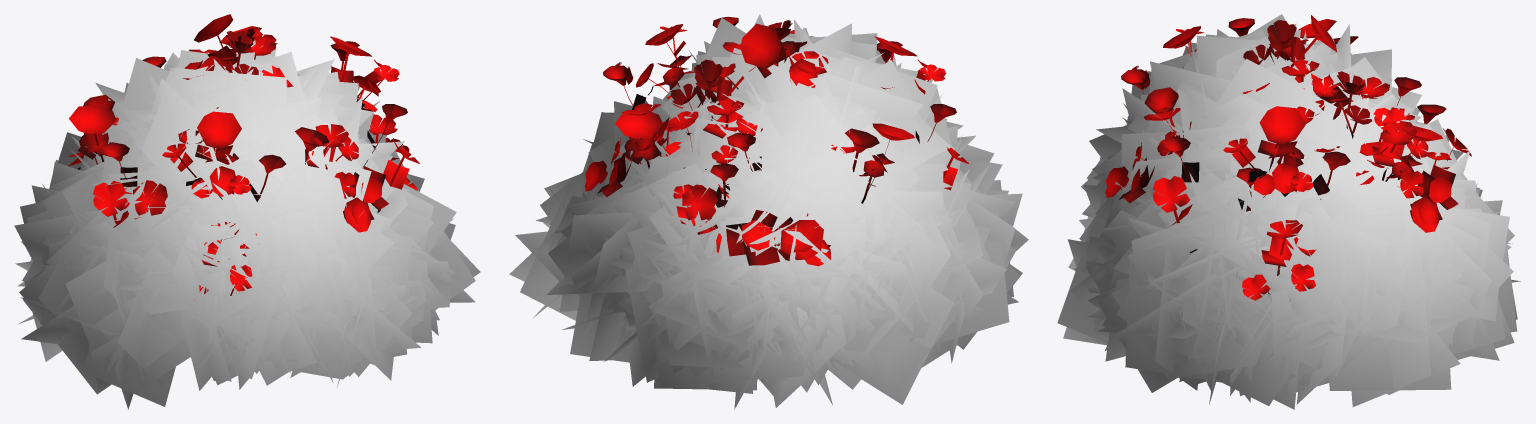
Rendered from SM_Bush_04.FBX.
3 views of the same model, side by side, from view 1: azimuth 30°, elevation 25°; view 2: azimuth 150°, elevation 25°; view 3: azimuth 270°, elevation 25° (orthographic). The views are drawn at different scales.
Parts seen in each view (by area): view 1: SM_Bush_04_LOD0; view 2: SM_Bush_04_LOD0; view 3: SM_Bush_04_LOD0.
Boxes of the visible parts, x1,y1,x2,y2 form: SM_Bush_04_LOD0: (14,14,480,409); SM_Bush_04_LOD0: (509,14,1028,409); SM_Bush_04_LOD0: (1057,14,1520,409).
Size of what is drawn, in the model's own units: 322 by 295 by 232.
